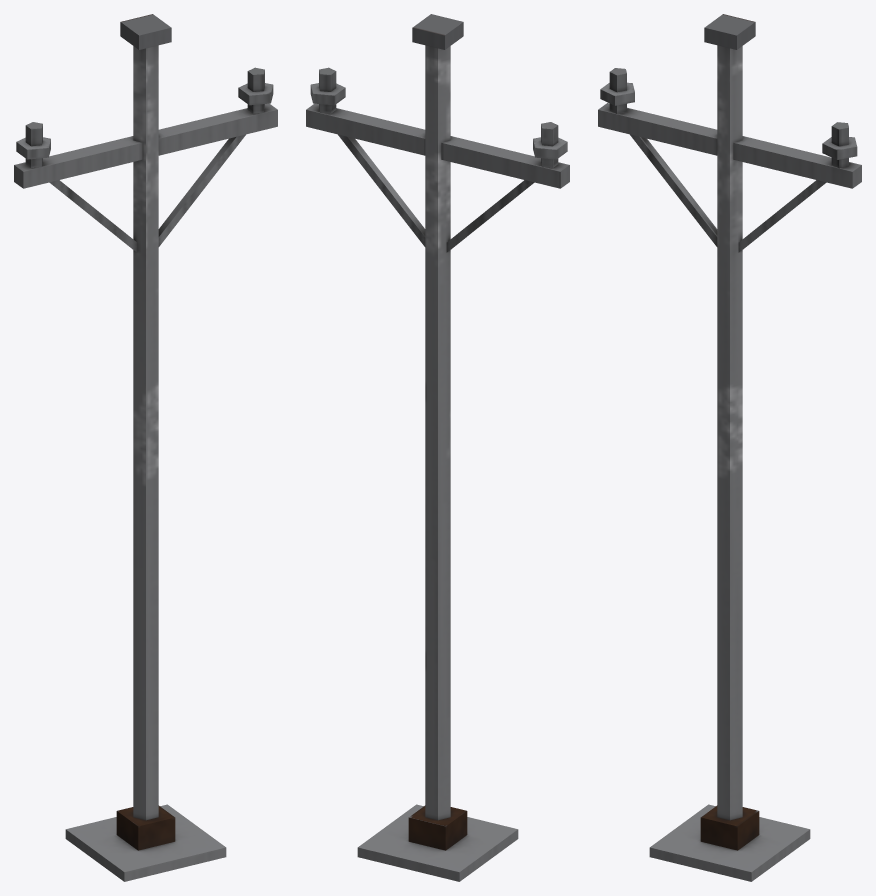
Rendered from nodexeus-set-mast-1.glb.
3 renders of one model, left to right at view 1: azimuth 30°, elevation 25°; view 2: azimuth 150°, elevation 25°; view 3: azimuth 330°, elevation 25°, orthographic.
Parts seen in each view (by area): view 1: set-mast-1; view 2: set-mast-1; view 3: set-mast-1.
Boxes of the visible parts, x1=… form: set-mast-1: x1=14, y1=14, x2=277, y2=881; set-mast-1: x1=306, y1=14, x2=569, y2=881; set-mast-1: x1=598, y1=14, x2=861, y2=881.
Size of the model in its own units: 1.1 by 3.4 by 0.44.
1 material, 1 textured.
